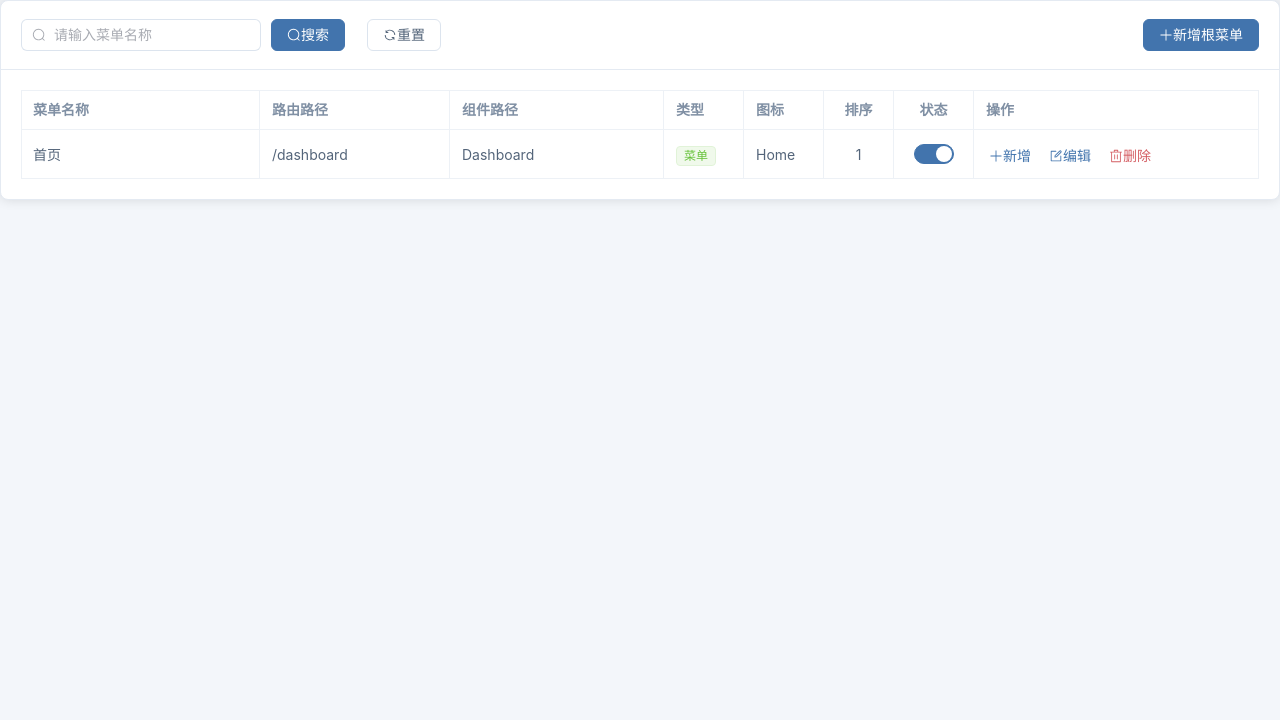
Scenario: menu editing › editing keeps menu type and component and refreshes the tree
This screenshot has width=1280, height=720.
Click the button "编辑" at (1070, 156), box 1046,146 -> 1094,166
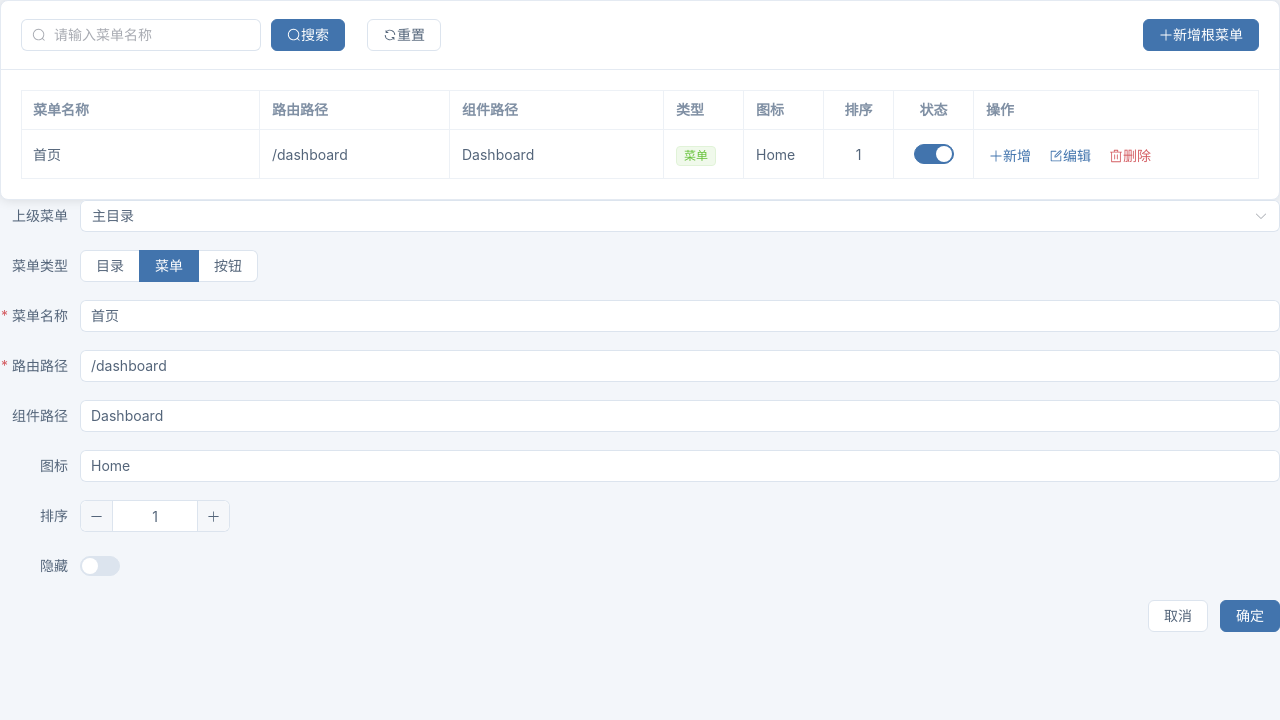
Replace the text in the field labelled "菜单名称" with "Updated dashboard" at (680, 316), box 91,301 -> 1269,331
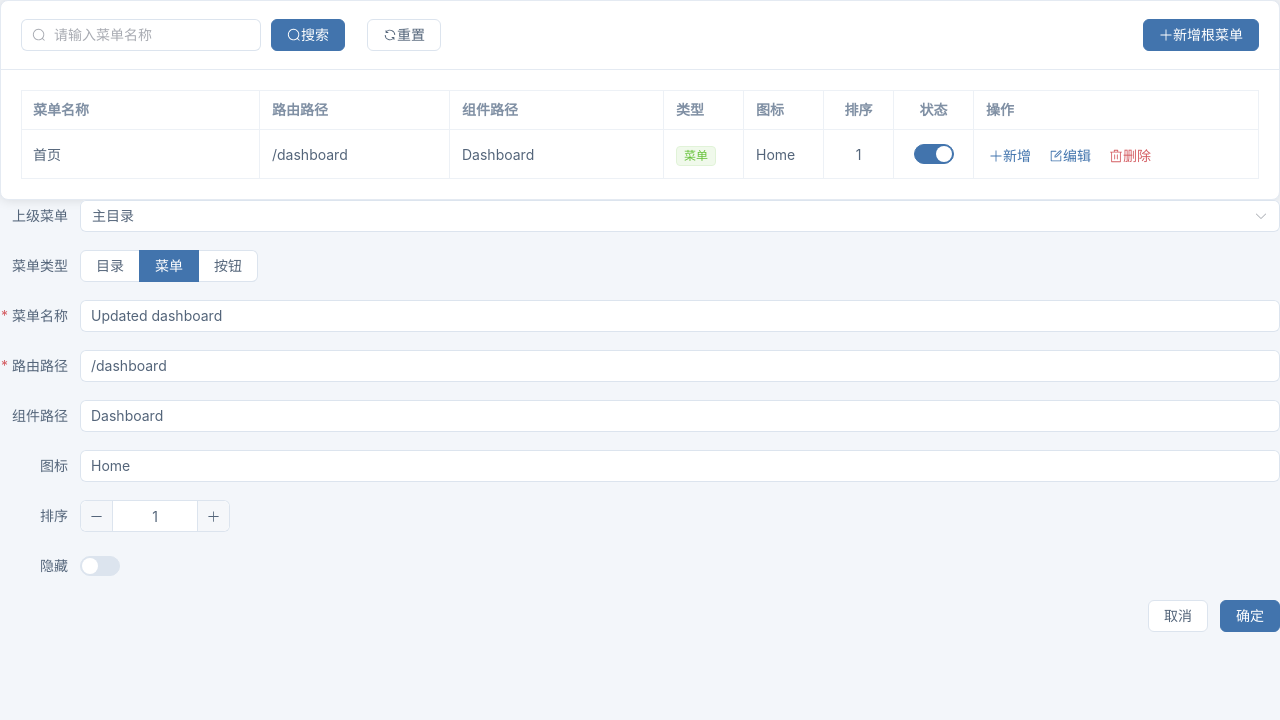
Click the button "确定" at (1250, 616), box 1220,600 -> 1279,632
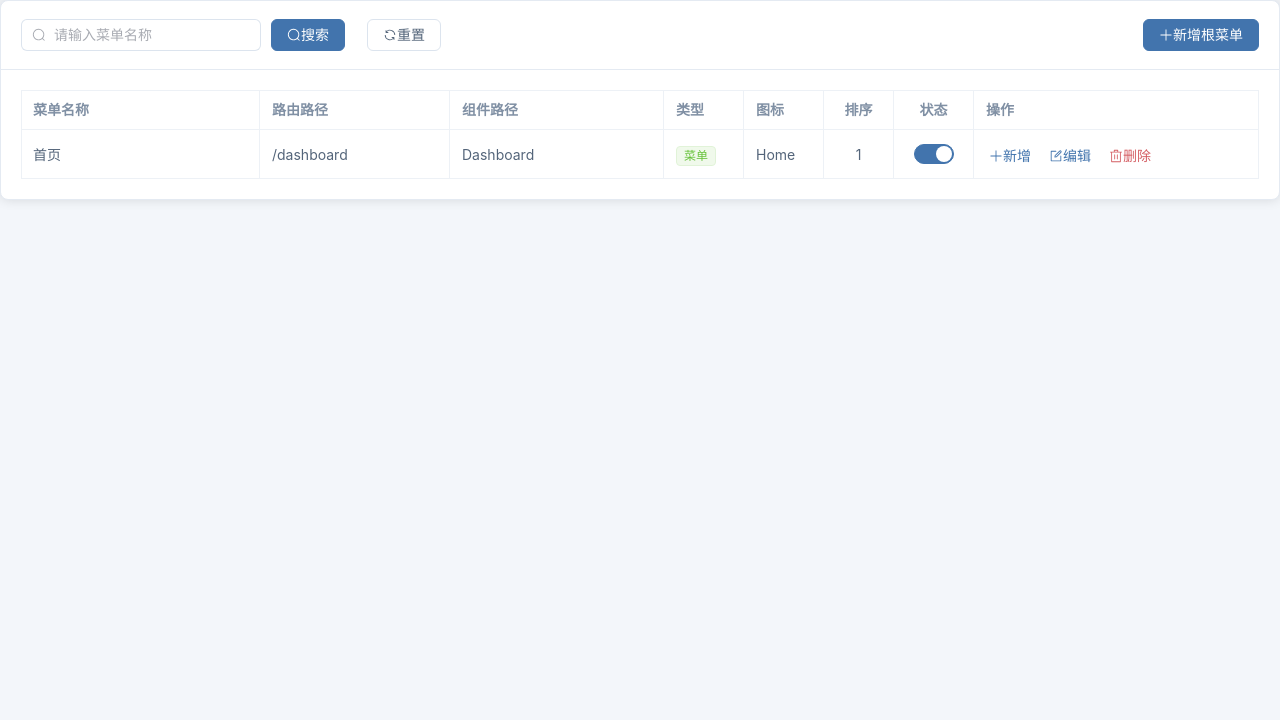
Result: no dialogs are shown
